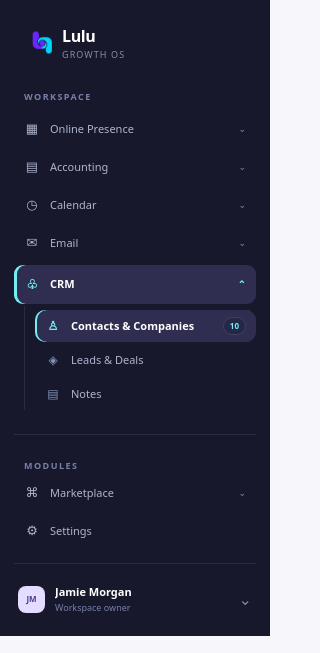
Scenario: Rail CRM menu › shows the signed-in user, with language in the profile menu
Click the button with aria-label "Profile menu" at coordinates (135, 599), box 14,580 -> 256,618
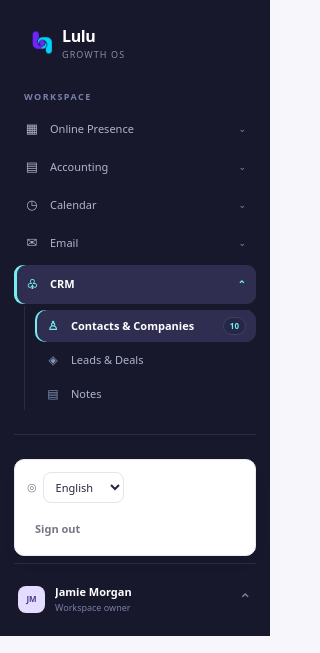
Expected: the dropdown named "Language" is shown, 43,472 -> 124,502
